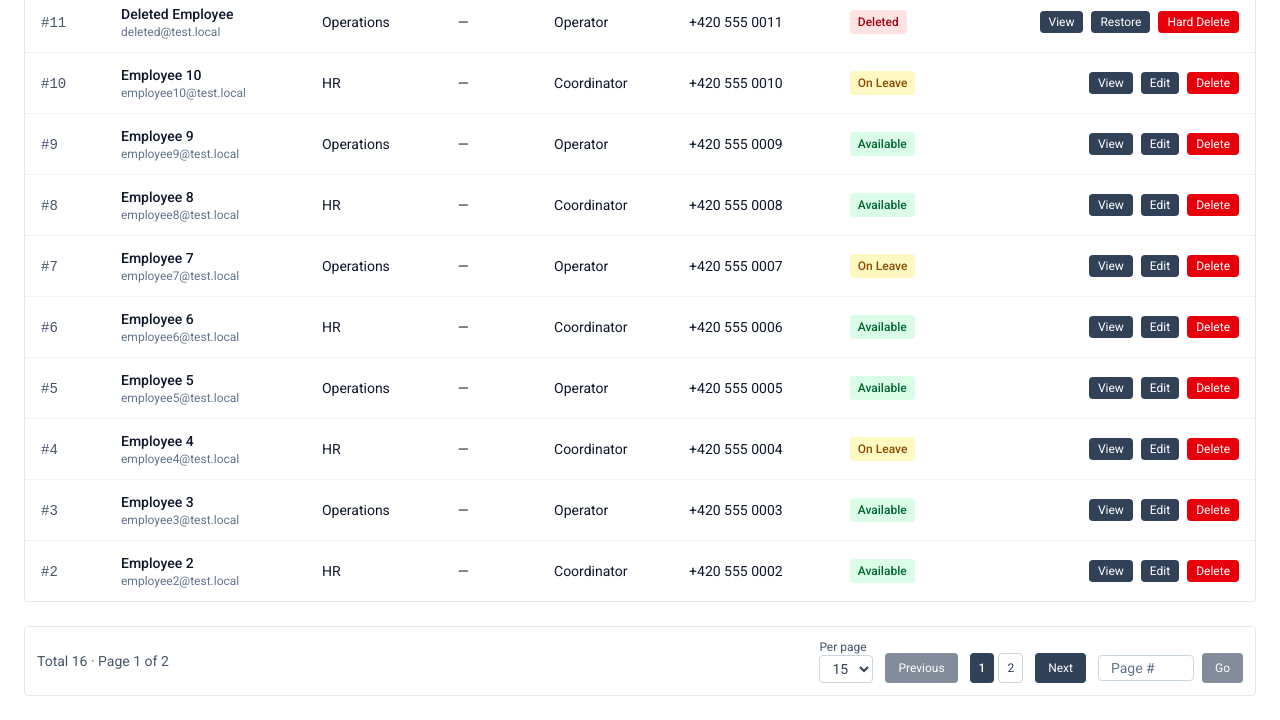
Test case: Employees page › renders the list, paginates results and shows deleted-row actions after filtering
(page scrolled)
Expected: the text "Deleted Employee" is shown, 121,6 -> 233,22
Expected: the text "Total 16 · Page 1 of 2" is shown, 37,651 -> 169,671
Click the button "Next" at (1061,668), box 1035,653 -> 1086,683
(page scrolled)
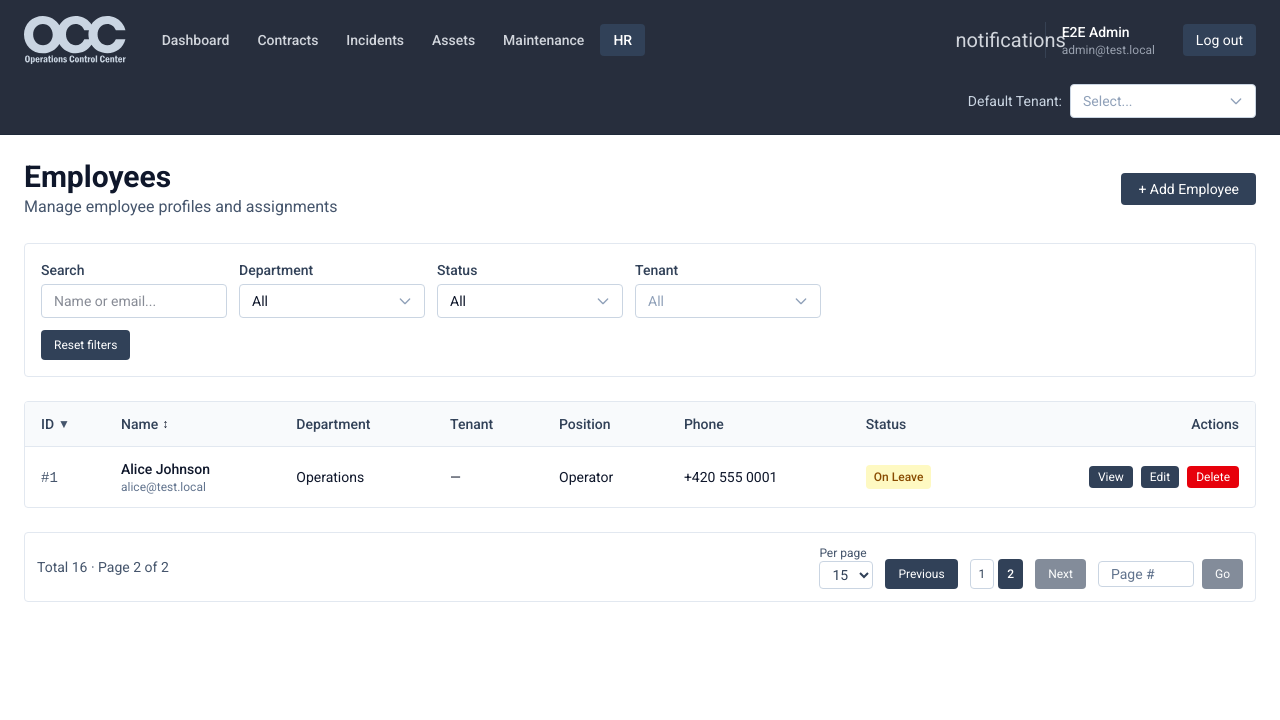
Expected: the text "Alice Johnson" is shown, 121,461 -> 210,477
Expected: the text "Total 16 · Page 2 of 2" is shown, 37,557 -> 169,577
Type "Deleted" into the field with placeholder "Name or email..." at (134,301), box 41,284 -> 227,318
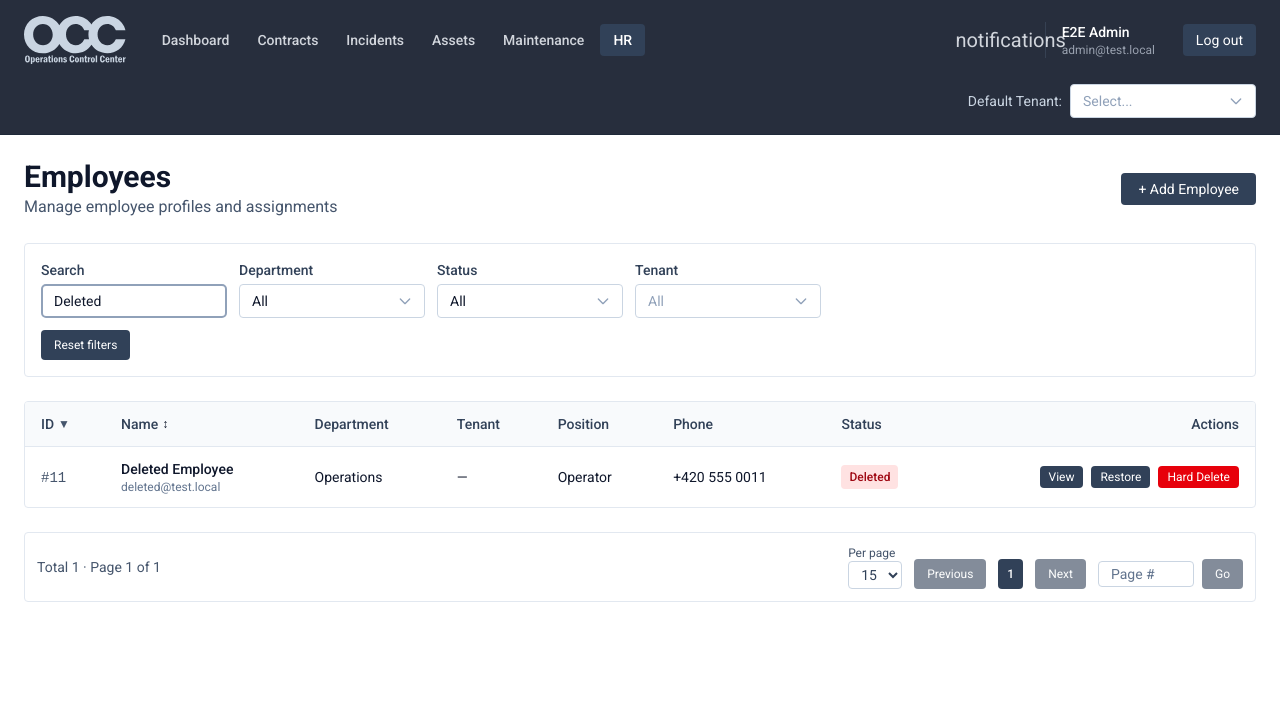
Expected: the text "Total 1 · Page 1 of 1" is shown, 37,557 -> 161,577
Expected: the button "Restore" is shown, 1092,466 -> 1150,488
Expected: the button "Hard Delete" is shown, 1158,466 -> 1239,488
